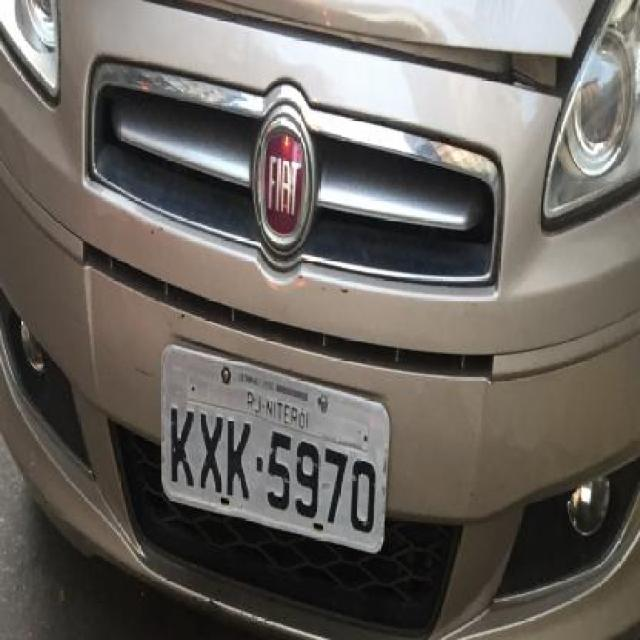old_plate: (153, 336, 397, 560)
